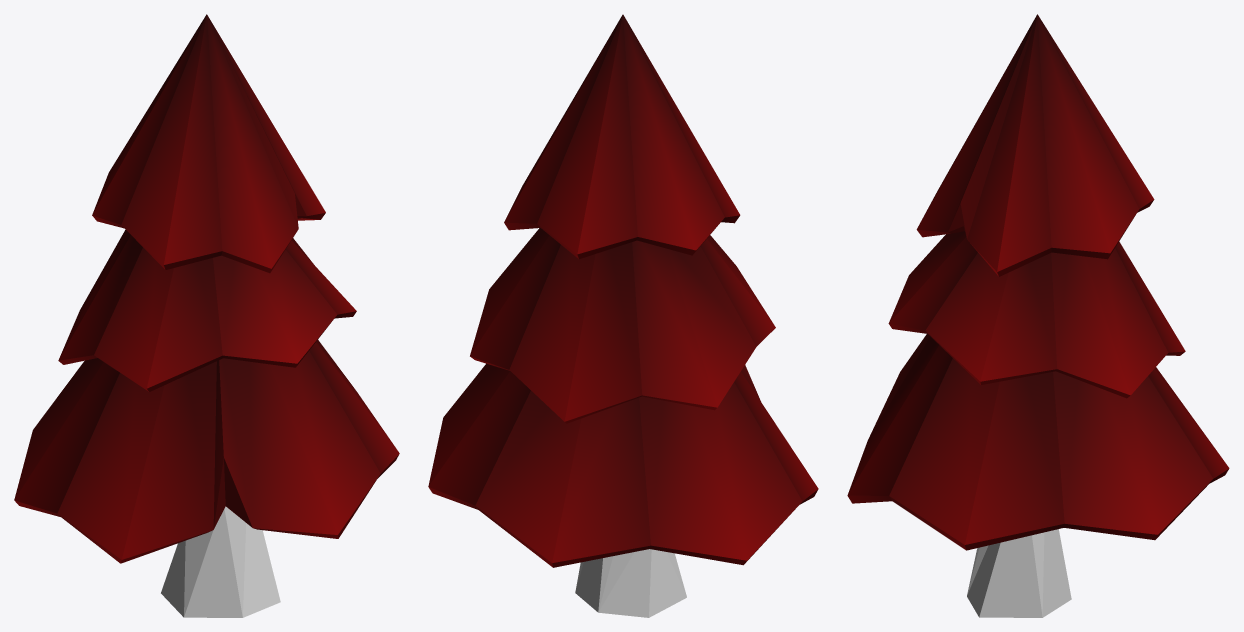
Rendered from PineTree01_LOD0.fbx.
3 views of the same model, side by side, from view 1: azimuth 30°, elevation 25°; view 2: azimuth 150°, elevation 25°; view 3: azimuth 270°, elevation 25° (orthographic).
Parts seen in each view (by area): view 1: PineTree01_Leafs_LOD0, PineTree01_Trunk_LOD0.001; view 2: PineTree01_Leafs_LOD0, PineTree01_Trunk_LOD0.001; view 3: PineTree01_Leafs_LOD0, PineTree01_Trunk_LOD0.001.
Part boxes in pixels (bbox=[...]): PineTree01_Leafs_LOD0: bbox=[14, 14, 399, 563]; PineTree01_Trunk_LOD0.001: bbox=[161, 506, 280, 617]; PineTree01_Leafs_LOD0: bbox=[428, 14, 818, 567]; PineTree01_Trunk_LOD0.001: bbox=[575, 549, 686, 617]; PineTree01_Leafs_LOD0: bbox=[847, 14, 1229, 550]; PineTree01_Trunk_LOD0.001: bbox=[967, 529, 1071, 617].
Bounding box in the file's own units: 1.31 × 2.22 × 1.32.
